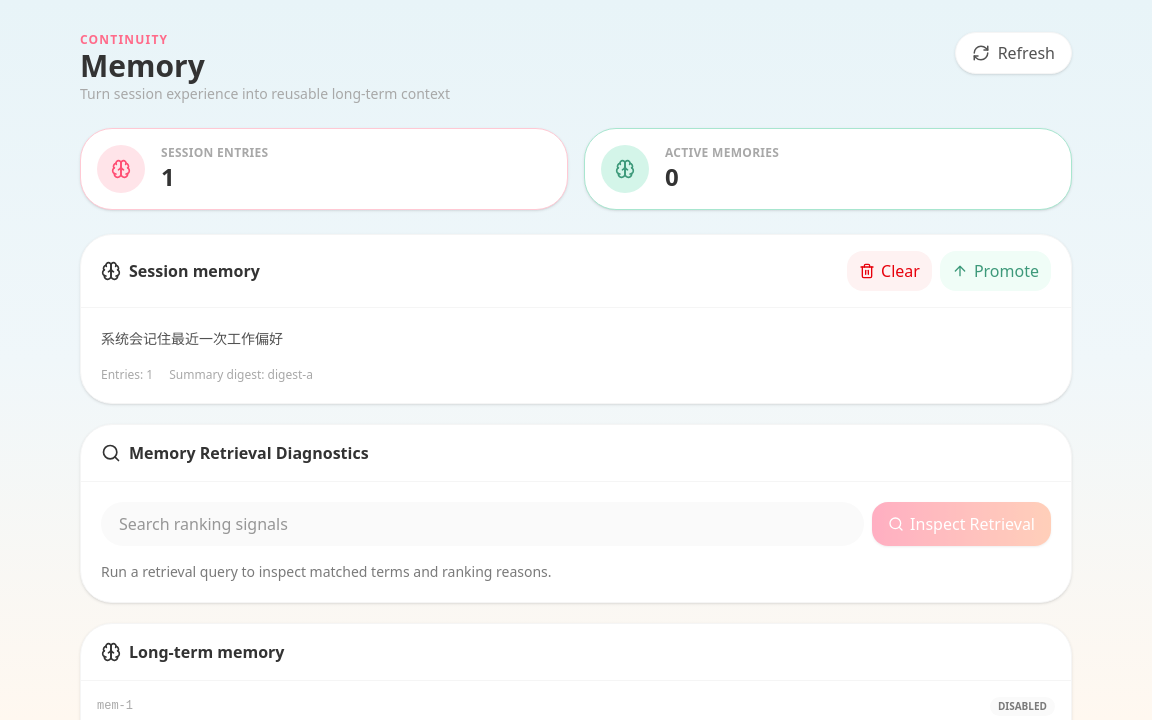
Test: renders translated persistent memory status and retrieval diagnostics
The width and height of the screenshot is (1152, 720).
Expected: the text "mem-1" is shown, [97, 698, 133, 714]
Expected: the text "Disabled" is shown, [990, 697, 1055, 716]
In the field named "memory retrieval query": (483, 524) [101, 502, 864, 546], type "teaching"
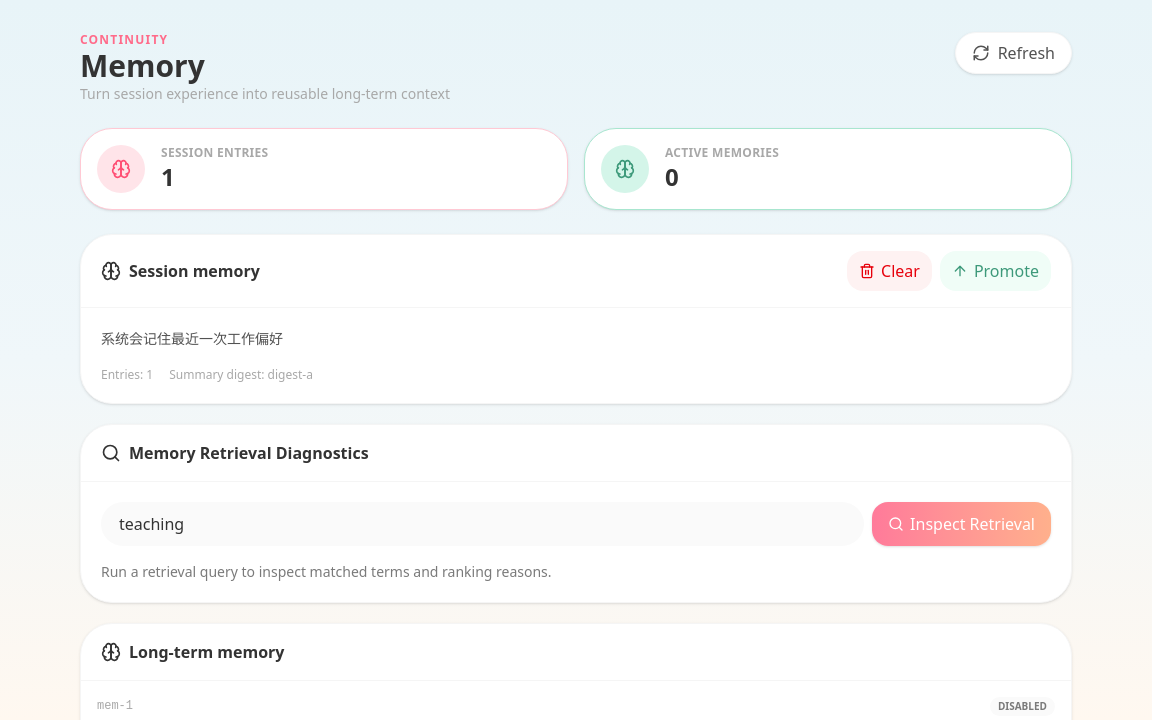
Click the button "Inspect Retrieval": (962, 524) [872, 502, 1051, 546]
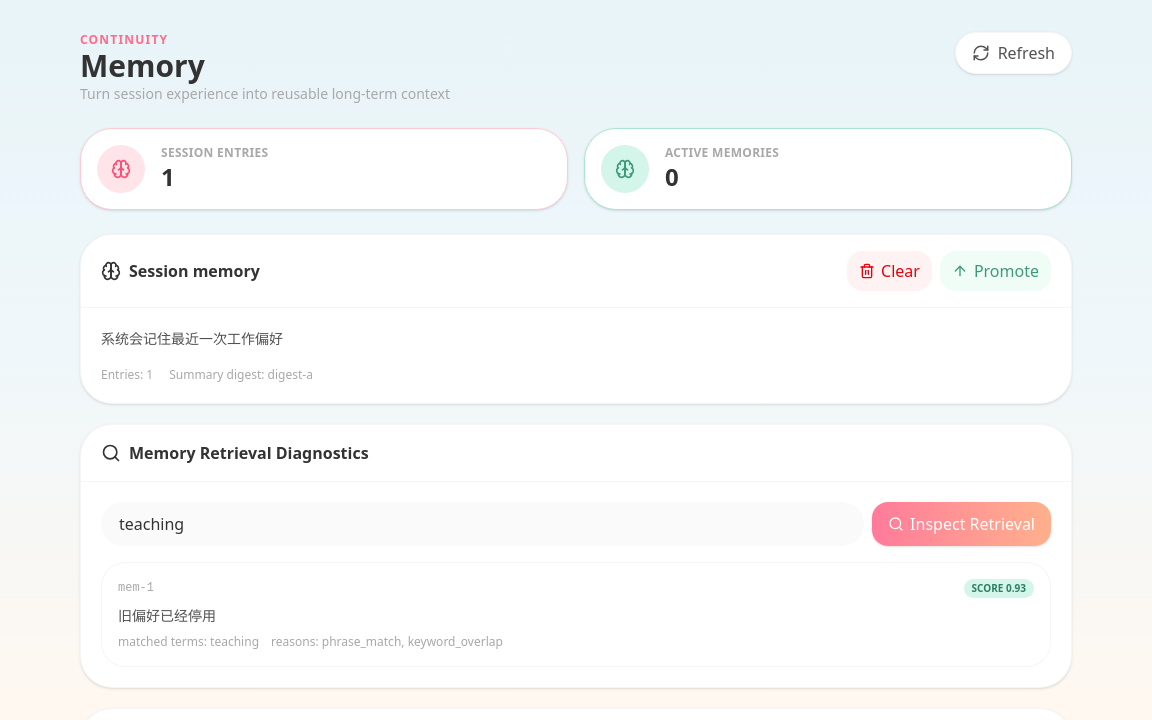
Now the text "matched terms: teaching" is shown, box [118, 634, 259, 650]
Now the text "reasons: phrase_match, keyword_overlap" is shown, box [271, 634, 503, 650]
